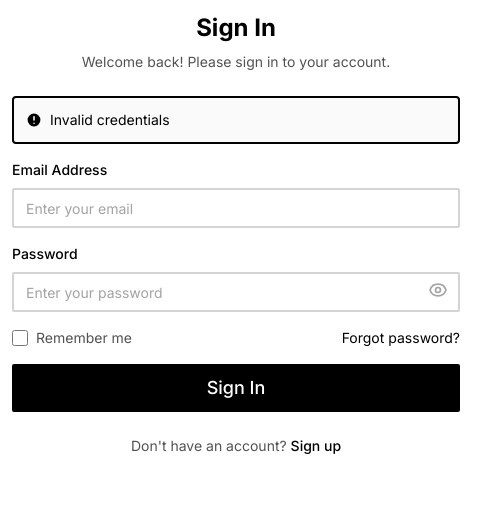
Test: Authentication Integration Tests › LoginForm › should validate required fields
// Submit without filling fields
Click the button "Sign In" at x=236, y=388, box [12,364,460,412]
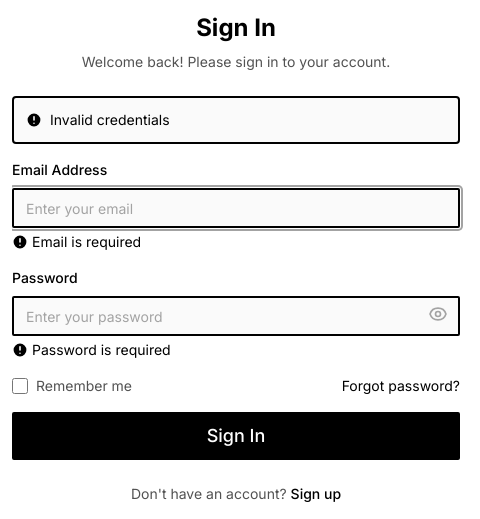
Now the text "Email is required" is shown, box [12,233,141,250]
Now the text "Password is required" is shown, box [12,341,171,358]
